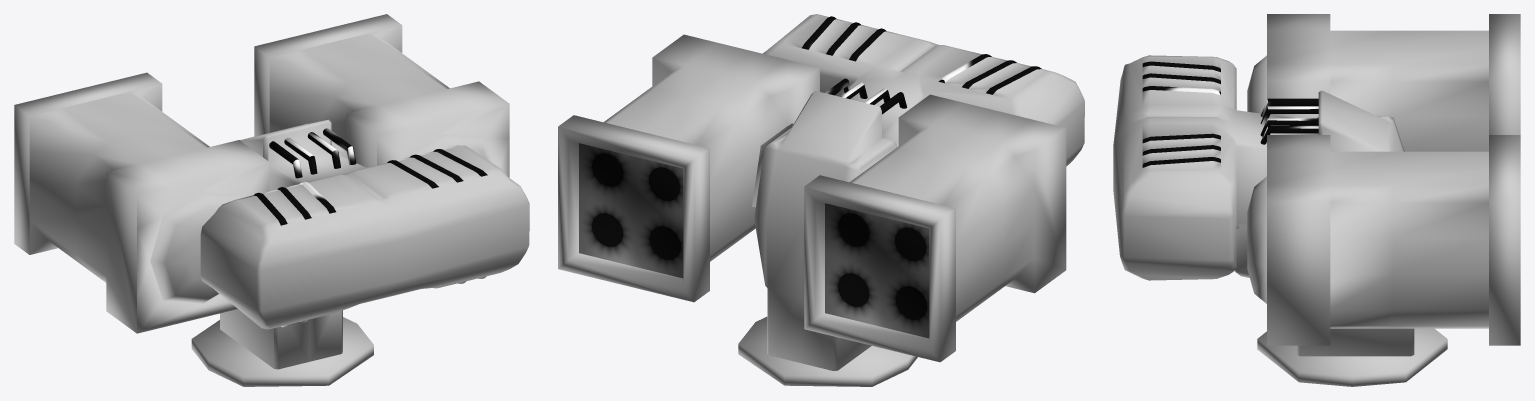
The model's file is cluster_launcher.fbx.
3 renders of one model, left to right at view 1: azimuth 30°, elevation 25°; view 2: azimuth 150°, elevation 25°; view 3: azimuth 270°, elevation 25°, orthographic. The views are drawn at different scales.
Visible parts, largest first — view 1: Bships_props_teladi_bigturret_base, Launcher_001, Launcher; view 2: Launcher_001, Launcher, Bships_props_teladi_bigturret_base; view 3: Launcher, Bships_props_teladi_bigturret_base, Launcher_001.
Boxes of the visible parts, <box> form: Bships_props_teladi_bigturret_base: <box>191,119,529,386</box>; Launcher_001: <box>14,72,269,333</box>; Launcher: <box>254,14,509,177</box>; Launcher_001: <box>804,94,1066,362</box>; Launcher: <box>558,34,819,302</box>; Bships_props_teladi_bigturret_base: <box>738,14,1084,386</box>; Launcher: <box>1247,135,1520,345</box>; Bships_props_teladi_bigturret_base: <box>1113,55,1447,386</box>; Launcher_001: <box>1247,14,1520,151</box>.
Bounding box in the file's own units: 332 × 201 × 304.
